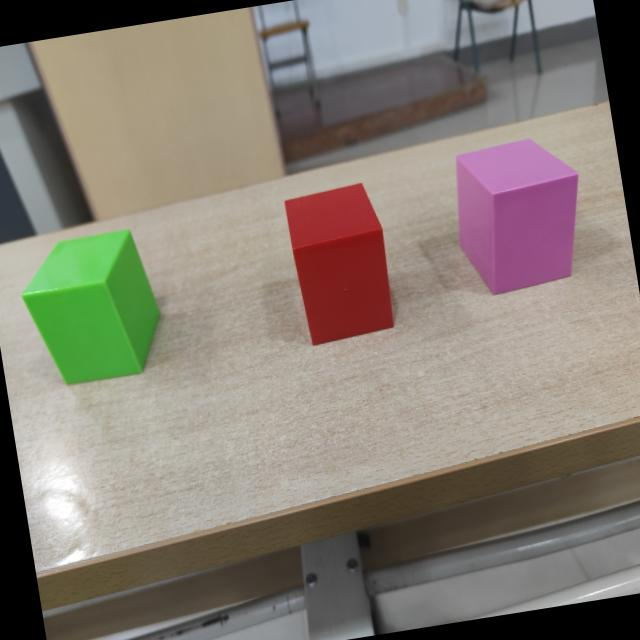green: (19, 229, 161, 386)
pink: (456, 141, 580, 297)
red: (286, 184, 396, 347)
